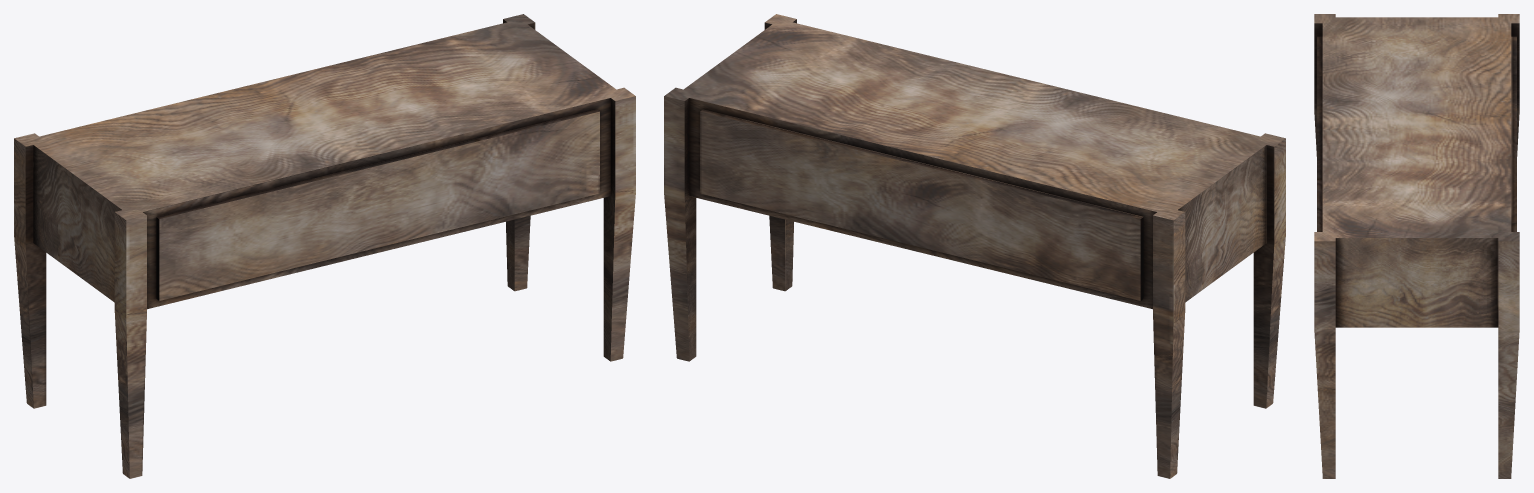
The model's file is Piano_Bench.gltf.
3 renders of one model, left to right at view 1: azimuth 30°, elevation 25°; view 2: azimuth 150°, elevation 25°; view 3: azimuth 270°, elevation 25°, orthographic. The views are drawn at different scales.
Visible parts, largest first — view 1: Piano Bench; view 2: Piano Bench; view 3: Piano Bench.
Boxes of the visible parts, x1,y1,x2,y2 form: Piano Bench: [14, 14, 635, 478]; Piano Bench: [664, 14, 1285, 478]; Piano Bench: [1314, 14, 1519, 478].
Size of the model in its own units: 1.19 by 0.5906 by 0.4552.
Materials: 1 (1 with a texture image).
